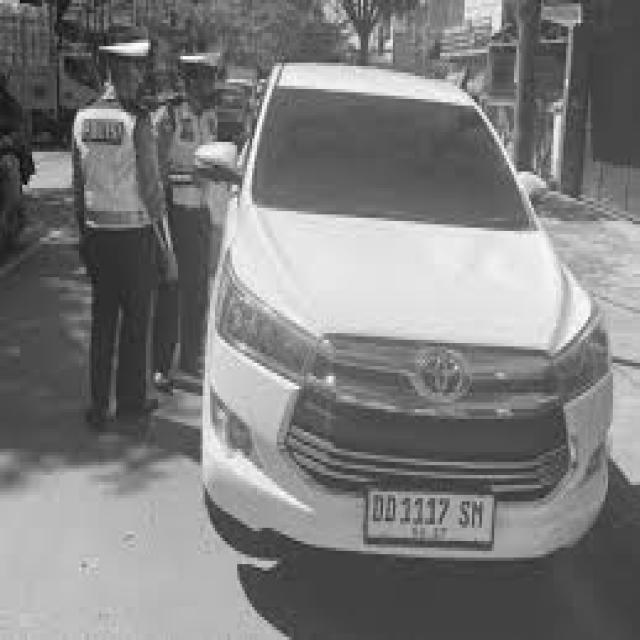license-plat: (366, 483, 500, 563)
